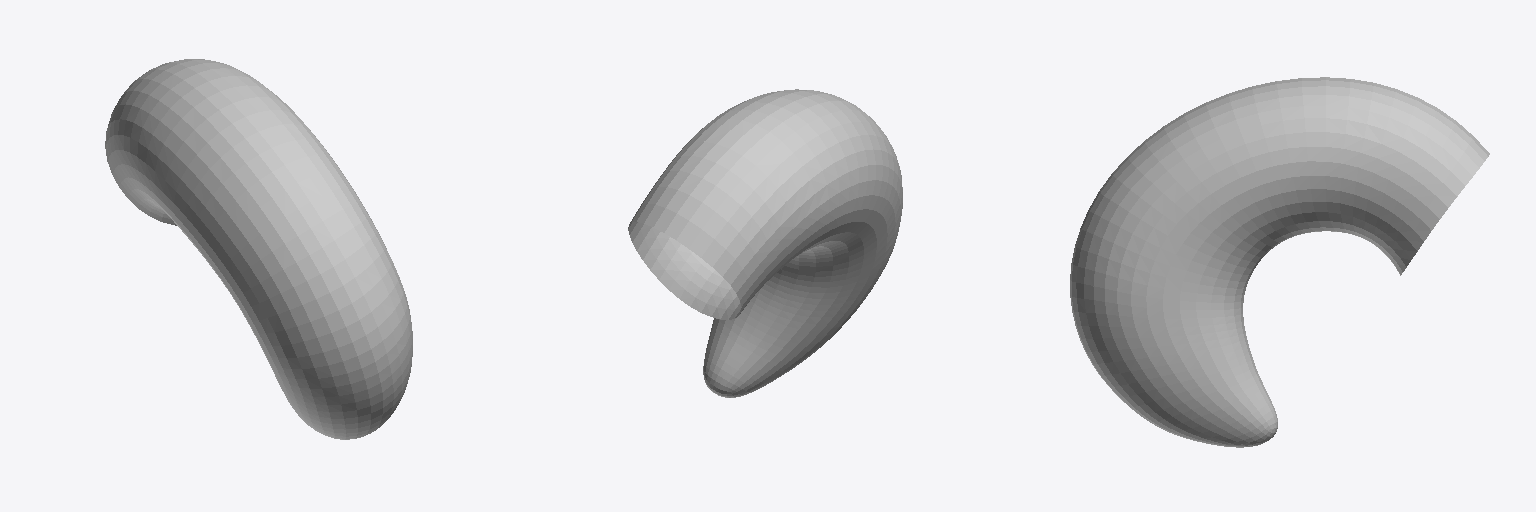
Rendered from tail.obj.
3 renders of one model, left to right at view 1: azimuth 30°, elevation 25°; view 2: azimuth 150°, elevation 25°; view 3: azimuth 270°, elevation 25°, orthographic.
Parts seen in each view (by area): view 1: 13466_Canaan_Dog_v1_L3.001; view 2: 13466_Canaan_Dog_v1_L3.001; view 3: 13466_Canaan_Dog_v1_L3.001.
Part boxes in pixels (bbox=[...]): 13466_Canaan_Dog_v1_L3.001: bbox=[105, 59, 412, 439]; 13466_Canaan_Dog_v1_L3.001: bbox=[628, 89, 902, 397]; 13466_Canaan_Dog_v1_L3.001: bbox=[1070, 77, 1489, 447].
Size of the model in its own units: 0.1885 by 0.3433 by 0.3971.